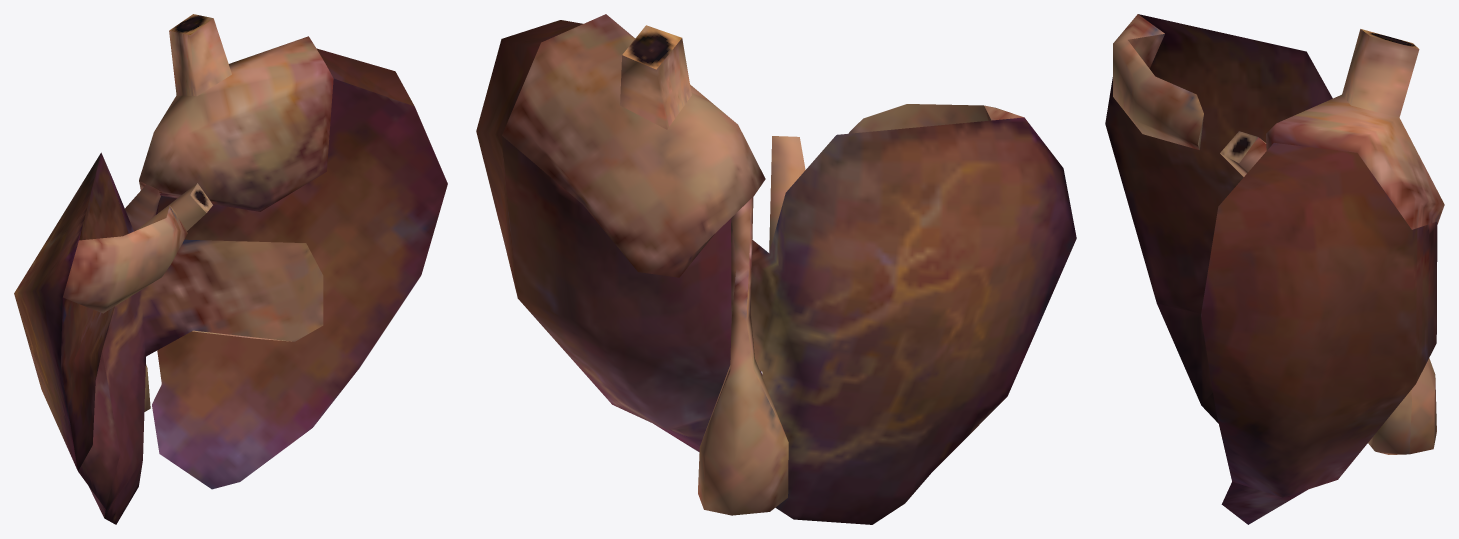
File: eqp_organ_liver_s02_l1.fbx
3 renders of one model, left to right at view 1: azimuth 30°, elevation 25°; view 2: azimuth 150°, elevation 25°; view 3: azimuth 270°, elevation 25°, orthographic. The views are drawn at different scales.
Visible parts, largest first — view 1: mesh_node; view 2: mesh_node; view 3: mesh_node.
Boxes of the visible parts, box(x1,y1,x2,y2) form: mesh_node: box(14, 14, 447, 524); mesh_node: box(476, 14, 1076, 524); mesh_node: box(1105, 14, 1444, 524).
Bounding box in the file's own units: 0.17 × 0.1633 × 0.0966.
